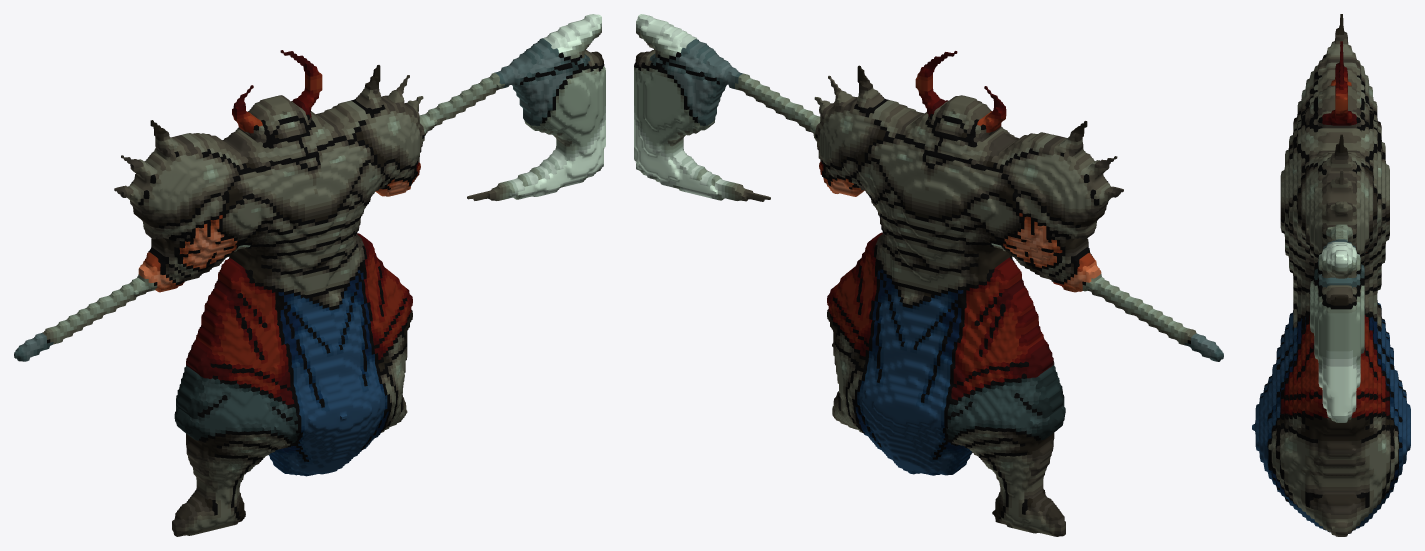
The model's file is Fight_013_2_04.obj.
3 views of the same model, side by side, from view 1: azimuth 30°, elevation 25°; view 2: azimuth 150°, elevation 25°; view 3: azimuth 270°, elevation 25° (orthographic). The views are drawn at different scales.
Size of the model in its own units: 17.58 by 13.18 by 3.78.
1 material, 1 textured.
